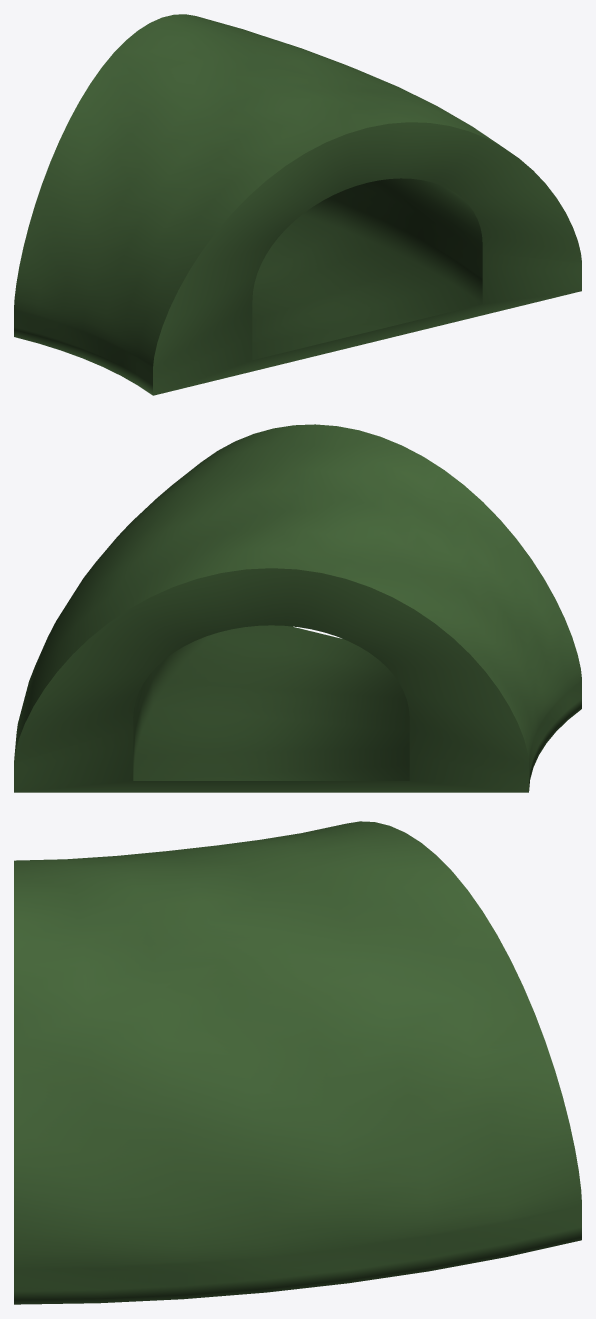
The model's file is curve_left_30_terrain_lod1.glb.
The picture shows the model from 3 angles, top to bottom: view 1: azimuth 30°, elevation 25°; view 2: azimuth 150°, elevation 25°; view 3: azimuth 270°, elevation 25°; orthographic projection. The views are drawn at different scales.
Visible parts, largest first — view 1: TerrainRoof.007; view 2: TerrainRoof.007; view 3: TerrainRoof.007.
Boxes of the visible parts, x1=… form: TerrainRoof.007: x1=14, y1=14, x2=581, y2=395; TerrainRoof.007: x1=14, y1=424, x2=581, y2=792; TerrainRoof.007: x1=14, y1=821, x2=581, y2=1304.
Bounding box in the file's own units: 31.32 × 13.65 × 25.1.
